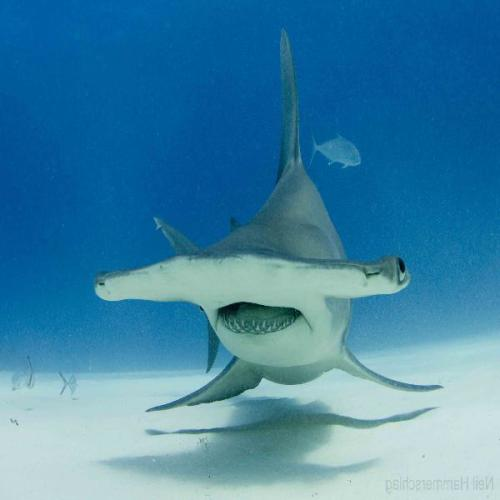shark-endangered: (94, 27, 445, 411)
